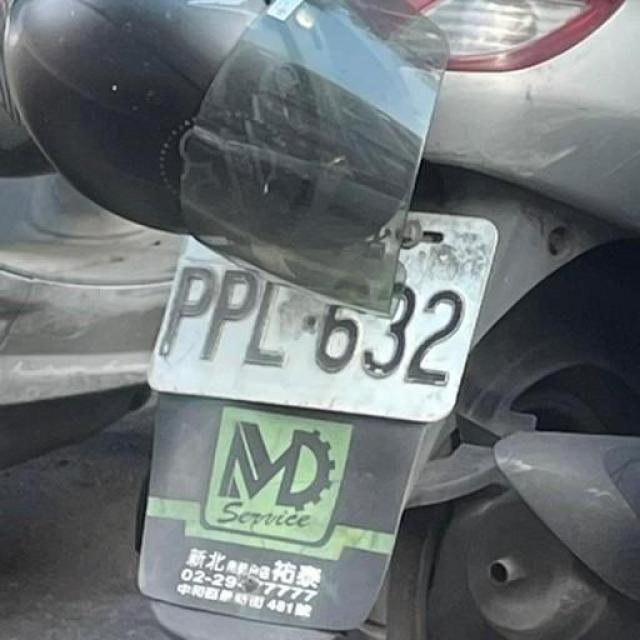W: (124, 175, 505, 436)
